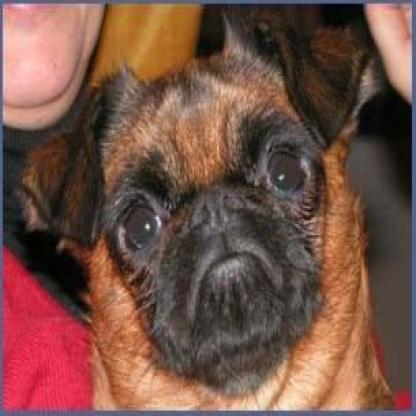Brabancon_griffon: (6, 0, 390, 412)
